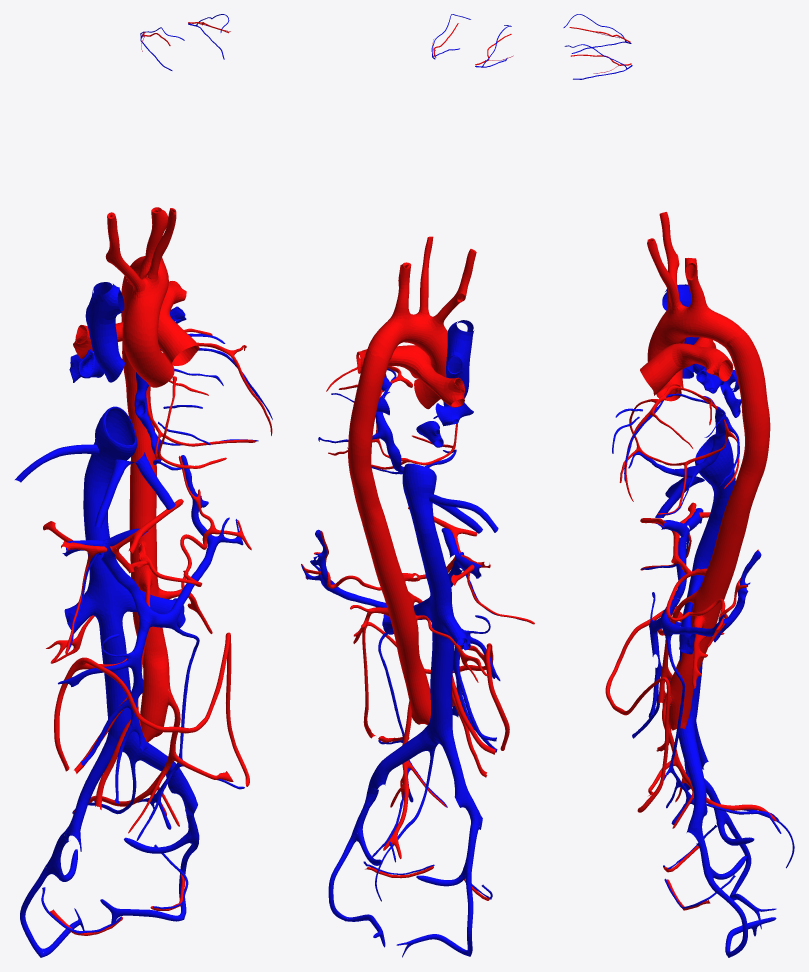
Rendered from VH_F_Blood_Vasculature_0.4.glb.
The picture shows the model from 3 angles, left to right: view 1: azimuth 30°, elevation 25°; view 2: azimuth 150°, elevation 25°; view 3: azimuth 270°, elevation 25°; orthographic projection. The views are drawn at different scales.
Visible parts, largest first — view 1: VH_F_inferior_vena_cava_b, VH_F_descending_aorta_b, VH_F_superior_vena_cava, VH_F_marginal_artery_of_Drummond, VH_F_ascending_aorta, VH_F_inferior_vena_cava_a, VH_F_splenic_vein, VH_F_aortic_arch, VH_F_left_common_iliac_vein, VH_F_pulmonary_trunk, VH_F_descending_aorta_a, VH_F_right_common_iliac_vein (+14 smaller); view 2: VH_F_descending_aorta_b, VH_F_inferior_vena_cava_b, VH_F_descending_aorta_a, VH_F_aortic_arch, VH_F_inferior_vena_cava_a, VH_F_left_common_iliac_vein, VH_F_superior_vena_cava, VH_F_marginal_artery_of_Drummond, VH_F_pulmonary_artery_R, VH_F_right_common_iliac_vein, VH_F_splenic_vein, VH_F_ascending_aorta (+6 smaller); view 3: VH_F_descending_aorta_b, VH_F_descending_aorta_a, VH_F_aortic_arch, VH_F_inferior_vena_cava_b, VH_F_left_common_iliac_vein, VH_F_marginal_artery_of_Drummond, VH_F_splenic_vein, VH_F_pulmonary_artery_L, VH_F_inferior_vena_cava_a, VH_F_pulmonary_trunk, VH_F_splenic_artery, VH_F_ascending_aorta (+11 smaller).
Part boxes in pixels (x1,y1,x2,y2): VH_F_inferior_vena_cava_b: [83, 463, 136, 752]; VH_F_descending_aorta_b: [129, 443, 170, 742]; VH_F_superior_vena_cava: [85, 282, 124, 382]; VH_F_marginal_artery_of_Drummond: [54, 632, 249, 786]; VH_F_ascending_aorta: [122, 312, 174, 387]; VH_F_inferior_vena_cava_a: [88, 406, 137, 476]; VH_F_splenic_vein: [140, 455, 243, 629]; VH_F_aortic_arch: [125, 256, 168, 315]; VH_F_left_common_iliac_vein: [125, 733, 197, 815]; VH_F_pulmonary_trunk: [158, 309, 199, 365]; VH_F_descending_aorta_a: [121, 276, 154, 444]; VH_F_right_common_iliac_vein: [65, 736, 116, 844]; VH_F_descending_aorta_b: [359, 504, 430, 725]; VH_F_inferior_vena_cava_b: [412, 516, 454, 745]; VH_F_descending_aorta_a: [348, 346, 389, 514]; VH_F_aortic_arch: [368, 312, 447, 360]; VH_F_inferior_vena_cava_a: [402, 463, 436, 517]; VH_F_left_common_iliac_vein: [364, 724, 434, 805]; VH_F_superior_vena_cava: [443, 320, 474, 406]; VH_F_marginal_artery_of_Drummond: [362, 621, 509, 750]; VH_F_pulmonary_artery_R: [413, 356, 464, 407]; VH_F_right_common_iliac_vein: [441, 729, 482, 829]; VH_F_splenic_vein: [301, 529, 387, 607]; VH_F_ascending_aorta: [414, 347, 447, 409]; VH_F_descending_aorta_b: [666, 497, 751, 730]; VH_F_descending_aorta_a: [723, 332, 770, 509]; VH_F_aortic_arch: [657, 303, 744, 345]; VH_F_inferior_vena_cava_b: [679, 479, 735, 725]; VH_F_left_common_iliac_vein: [678, 718, 707, 843]; VH_F_marginal_artery_of_Drummond: [605, 609, 682, 812]; VH_F_splenic_vein: [660, 551, 761, 642]; VH_F_pulmonary_artery_L: [676, 343, 733, 381]; VH_F_inferior_vena_cava_a: [695, 434, 735, 492]; VH_F_pulmonary_trunk: [640, 343, 694, 394]; VH_F_splenic_artery: [666, 549, 758, 647]; VH_F_ascending_aorta: [647, 323, 685, 401].
Bounding box in the file's own units: 0.1927 × 0.7991 × 0.1848.
